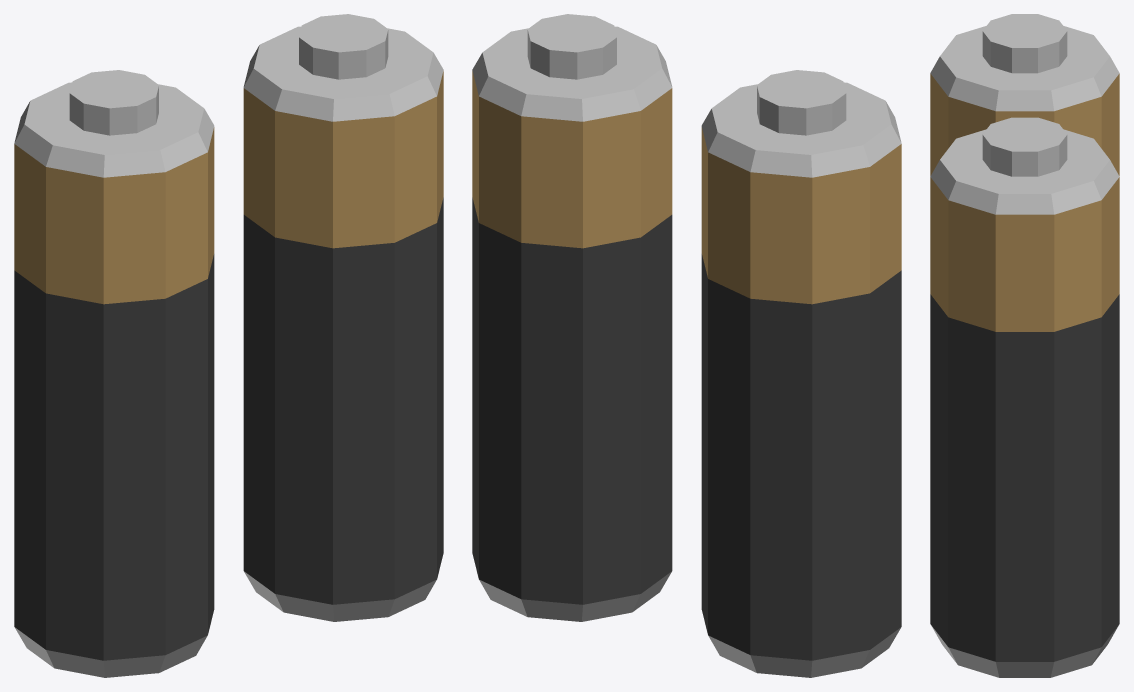
Rendered from item_battery_cap.glb.
3 views of the same model, side by side, from view 1: azimuth 30°, elevation 25°; view 2: azimuth 150°, elevation 25°; view 3: azimuth 270°, elevation 25° (orthographic). The views are drawn at different scales.
Parts seen in each view (by area): view 1: Cylinder, Cylinder.001; view 2: Cylinder, Cylinder.001; view 3: Cylinder.001, Cylinder.
Boxes of the visible parts, x1,y1,x2,y2 form: Cylinder: (14,70,214,677); Cylinder.001: (243,14,443,621); Cylinder: (701,70,901,677); Cylinder.001: (472,14,672,621); Cylinder.001: (930,117,1119,677); Cylinder: (930,14,1119,175).
Bounding box in the file's own units: 0.4095 × 0.5422 × 0.1825.
